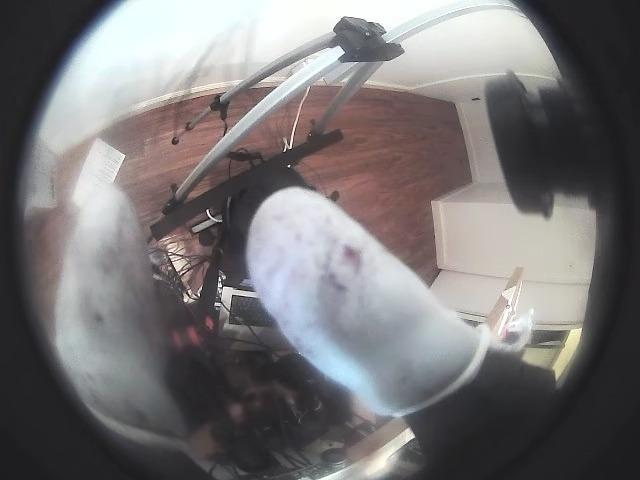gripper: (246, 187, 489, 416), (53, 184, 184, 447)
lense: (0, 0, 145, 479), (500, 0, 639, 479)
